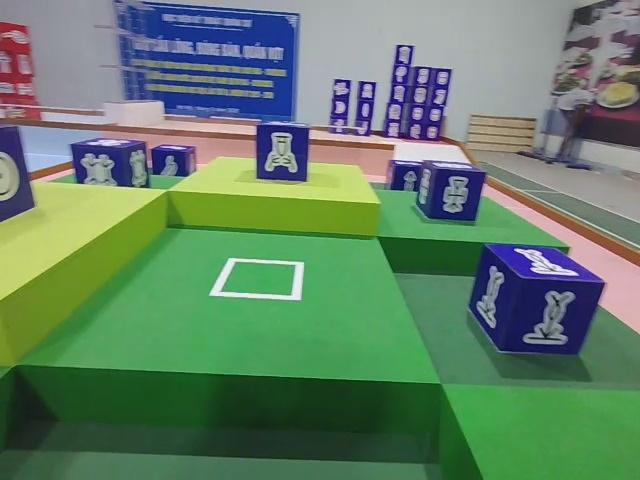R2 Real Blue: (471, 243, 605, 357), (413, 159, 484, 223), (67, 137, 148, 190), (0, 125, 35, 239), (255, 122, 312, 186), (147, 144, 195, 179)
